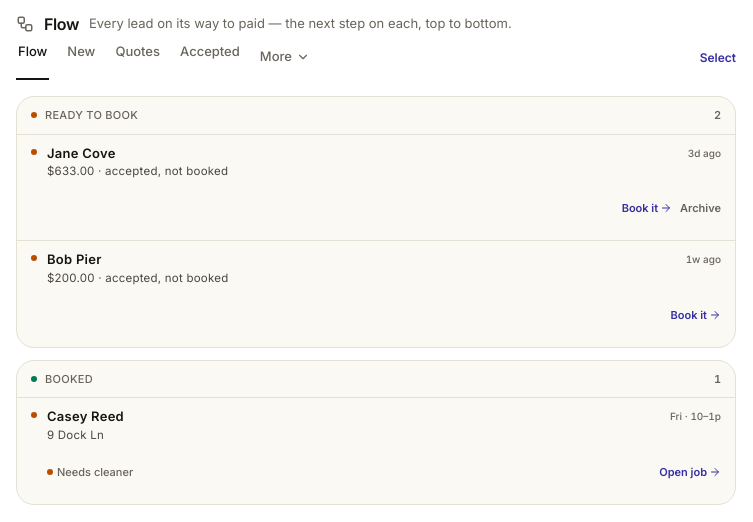
Scenario: Flow pipeline list › archives a quote in place after a confirm — no bounce, row disappears
This screenshot has width=753, height=522.
Check: the text "Jane Cove" is shown, box [47,144,116,162]
What coordinates should you click on to do the following:
click the button "Archive"
I would click on:
 (701, 208)
Its box is [680,186,721,230].
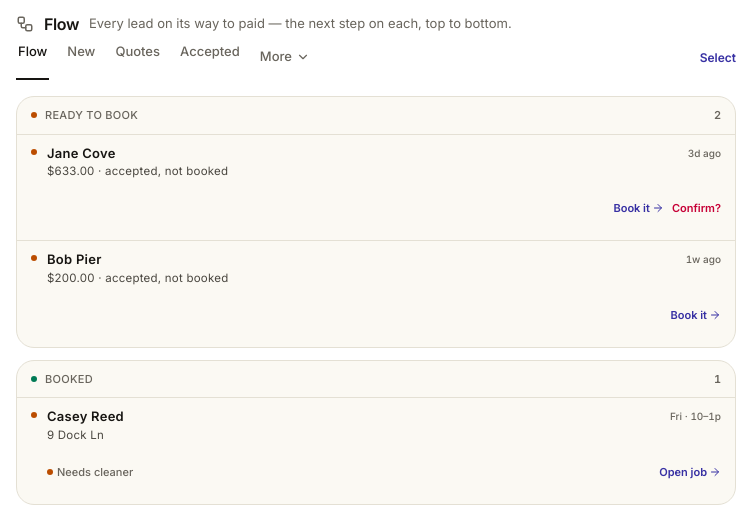
Check: the button "Confirm?" is shown
What coordinates should you click on to do the following:
click the button "Confirm?"
I would click on:
 (696, 208)
Its box is [672,186,721,230].
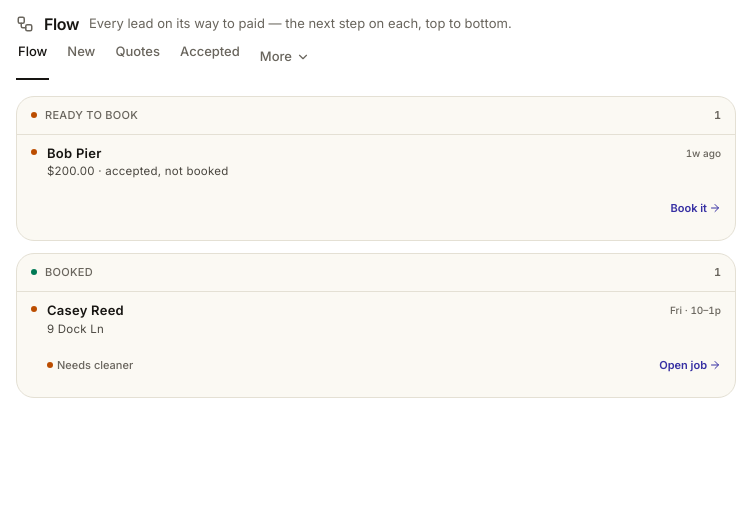
Check: the text "Jane Cove" is gone
